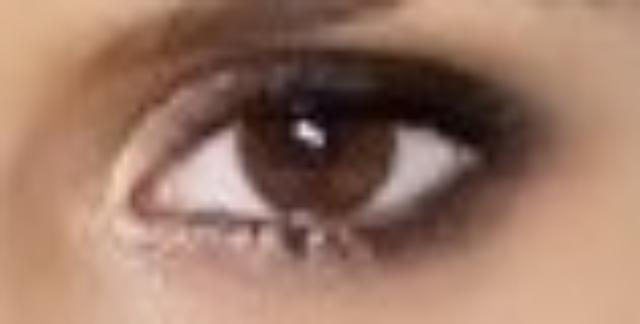eye: (246, 82, 404, 220)
